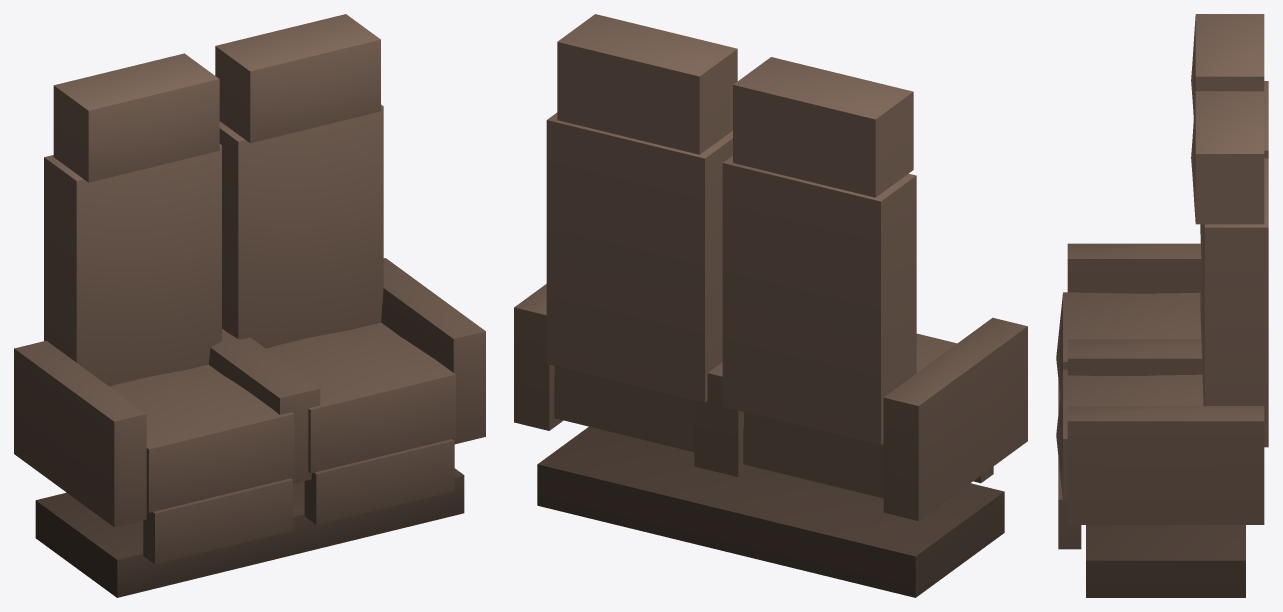
Rendered from recliner_pair_lod2.glb.
The picture shows the model from 3 angles, left to right: view 1: azimuth 30°, elevation 25°; view 2: azimuth 150°, elevation 25°; view 3: azimuth 270°, elevation 25°; orthographic projection. The views are drawn at different scales.
Parts seen in each view (by area): view 1: ReclinerPair_LOD2; view 2: ReclinerPair_LOD2; view 3: ReclinerPair_LOD2.
Part boxes in pixels (x1,y1,x2,y2): ReclinerPair_LOD2: (14,14,485,597); ReclinerPair_LOD2: (514,14,1027,597); ReclinerPair_LOD2: (1056,14,1268,597).
Bounding box in the file's own units: 1.88 × 2.08 × 0.93.
